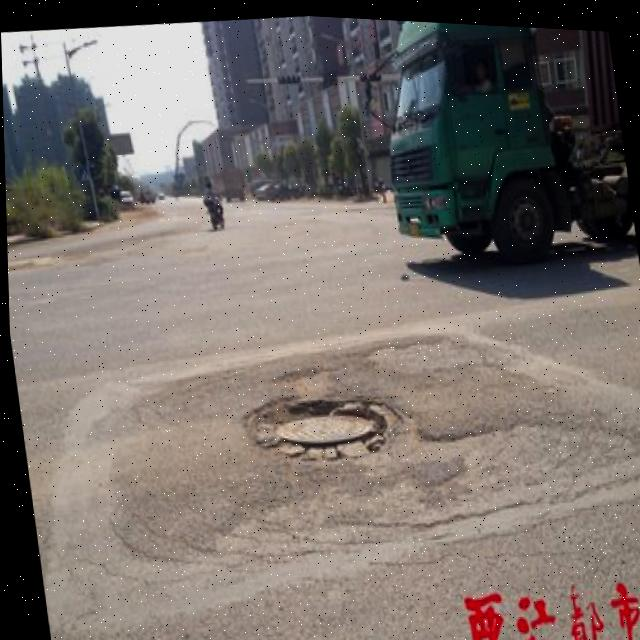manhole: (238, 369, 407, 471)
